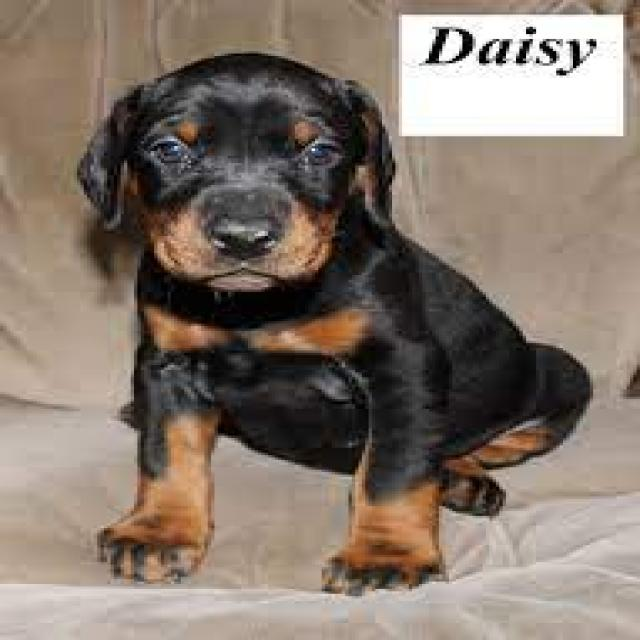Dog: (70, 48, 597, 598)
